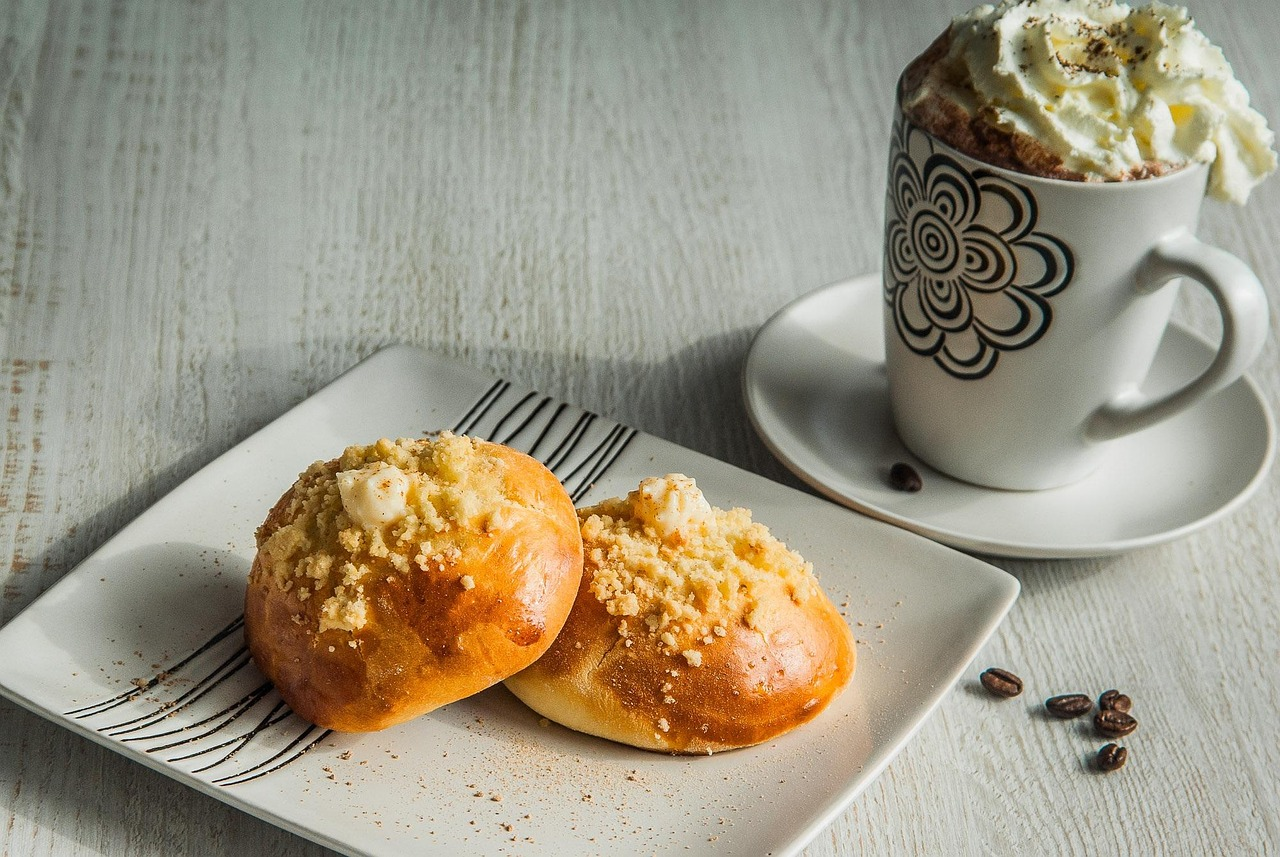mug: (757, 22, 1256, 527)
